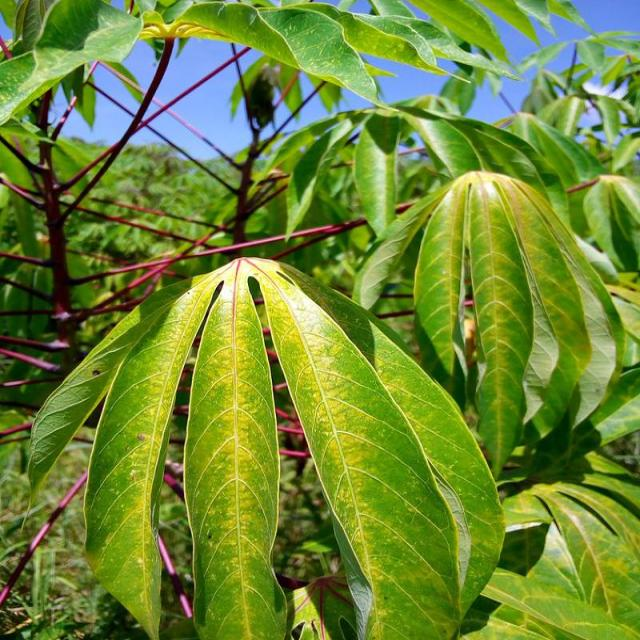cassava leaf: (28, 254, 506, 639), (412, 168, 624, 479), (182, 258, 288, 638)
